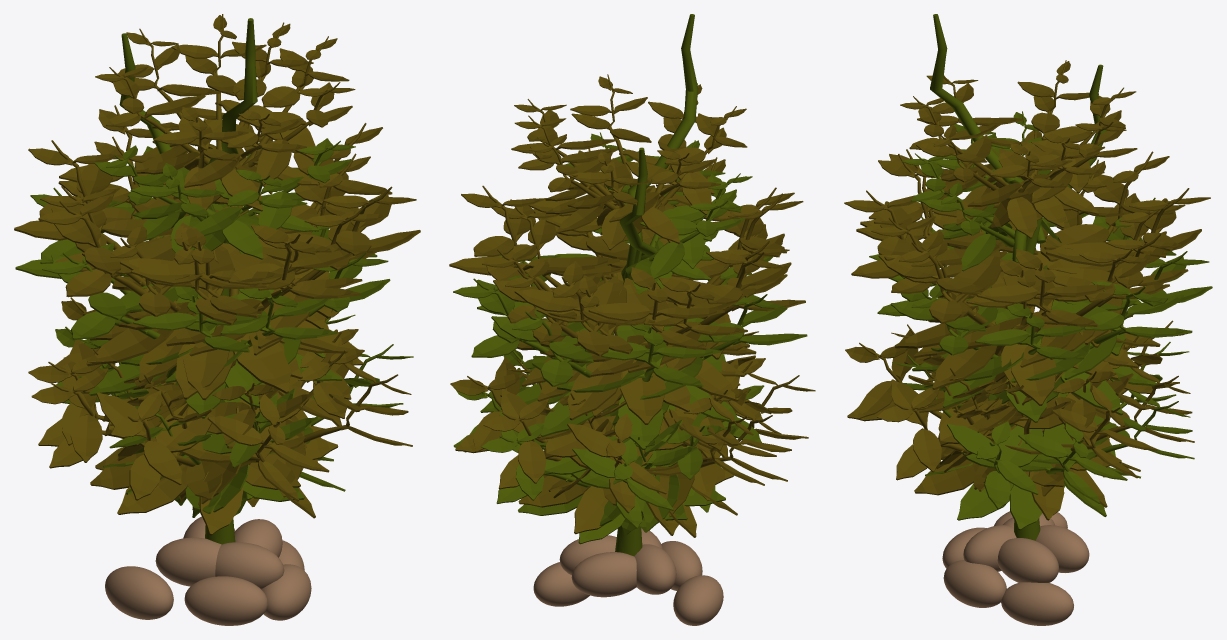
File: Potato4.fbx
3 views of the same model, side by side, from view 1: azimuth 30°, elevation 25°; view 2: azimuth 150°, elevation 25°; view 3: azimuth 270°, elevation 25° (orthographic). The views are drawn at different scales.
Visible parts, largest first — view 1: Cylinder.003, Sphere.006, Sphere.008, Sphere.003, Sphere.001, Sphere.005, Sphere.004; view 2: Cylinder.003, Sphere.002, Sphere.008, Sphere.003, Sphere.007, Sphere.006, Sphere.004; view 3: Cylinder.003, Sphere.007, Sphere.005, Sphere.004, Sphere.002, Sphere.001, Sphere.006.
Boxes of the visible parts, x1,y1,x2,y2 form: Cylinder.003: [14, 14, 420, 544]; Sphere.006: [184, 576, 267, 625]; Sphere.008: [105, 566, 173, 619]; Sphere.003: [155, 537, 221, 586]; Sphere.001: [215, 542, 284, 589]; Sphere.005: [261, 564, 311, 620]; Sphere.004: [234, 519, 282, 557]; Cylinder.003: [449, 14, 815, 556]; Sphere.002: [571, 552, 636, 597]; Sphere.008: [673, 575, 723, 625]; Sphere.003: [634, 544, 676, 594]; Sphere.007: [533, 562, 589, 606]; Sphere.006: [661, 541, 702, 590]; Sphere.004: [559, 535, 616, 575]; Cylinder.003: [844, 14, 1212, 540]; Sphere.007: [1001, 582, 1073, 625]; Sphere.005: [943, 560, 1006, 607]; Sphere.004: [997, 538, 1058, 582]; Sphere.002: [1035, 525, 1089, 572]; Sphere.001: [963, 525, 1016, 571]; Sphere.006: [942, 527, 986, 568].
Size of the model in its own units: 26.86 by 45.91 by 26.81.
